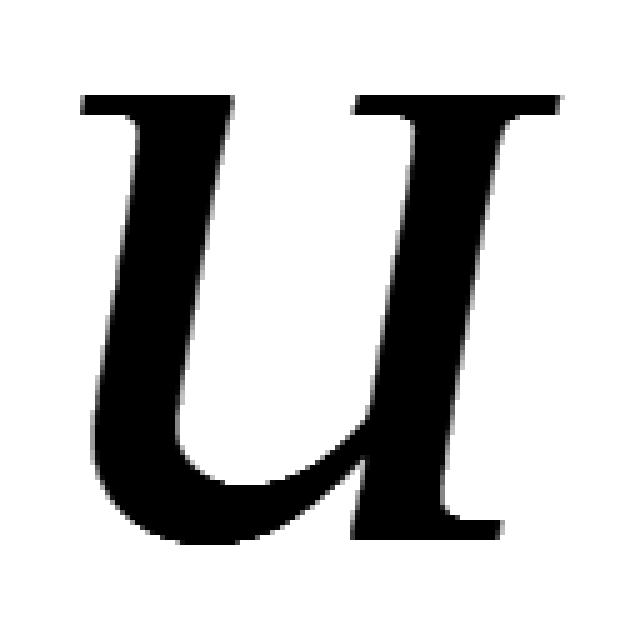U: (70, 80, 565, 545)
